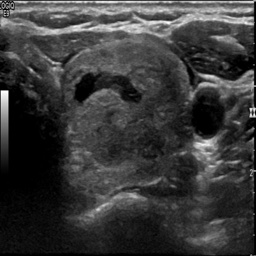mass: (58, 36, 190, 172)
